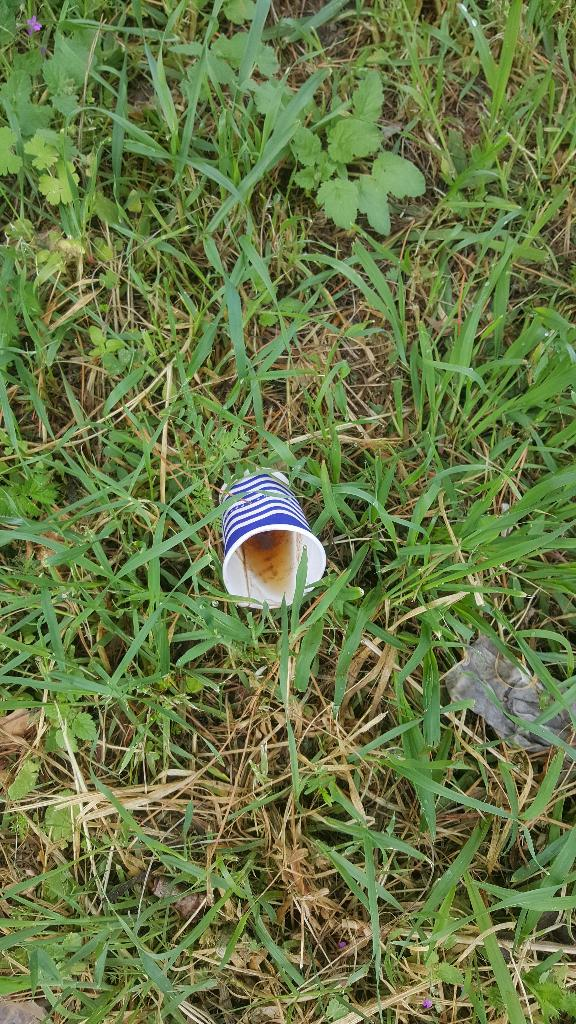garbage: (198, 446, 333, 613), (222, 471, 326, 608)
